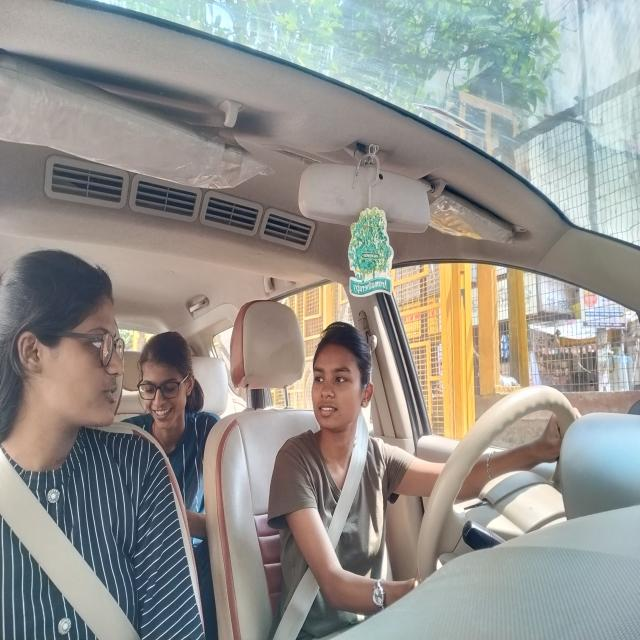LeftRight: (312, 317, 377, 442)
person: (9, 251, 124, 447), (141, 332, 198, 445)
talking: (318, 401, 341, 421), (103, 385, 120, 405)
